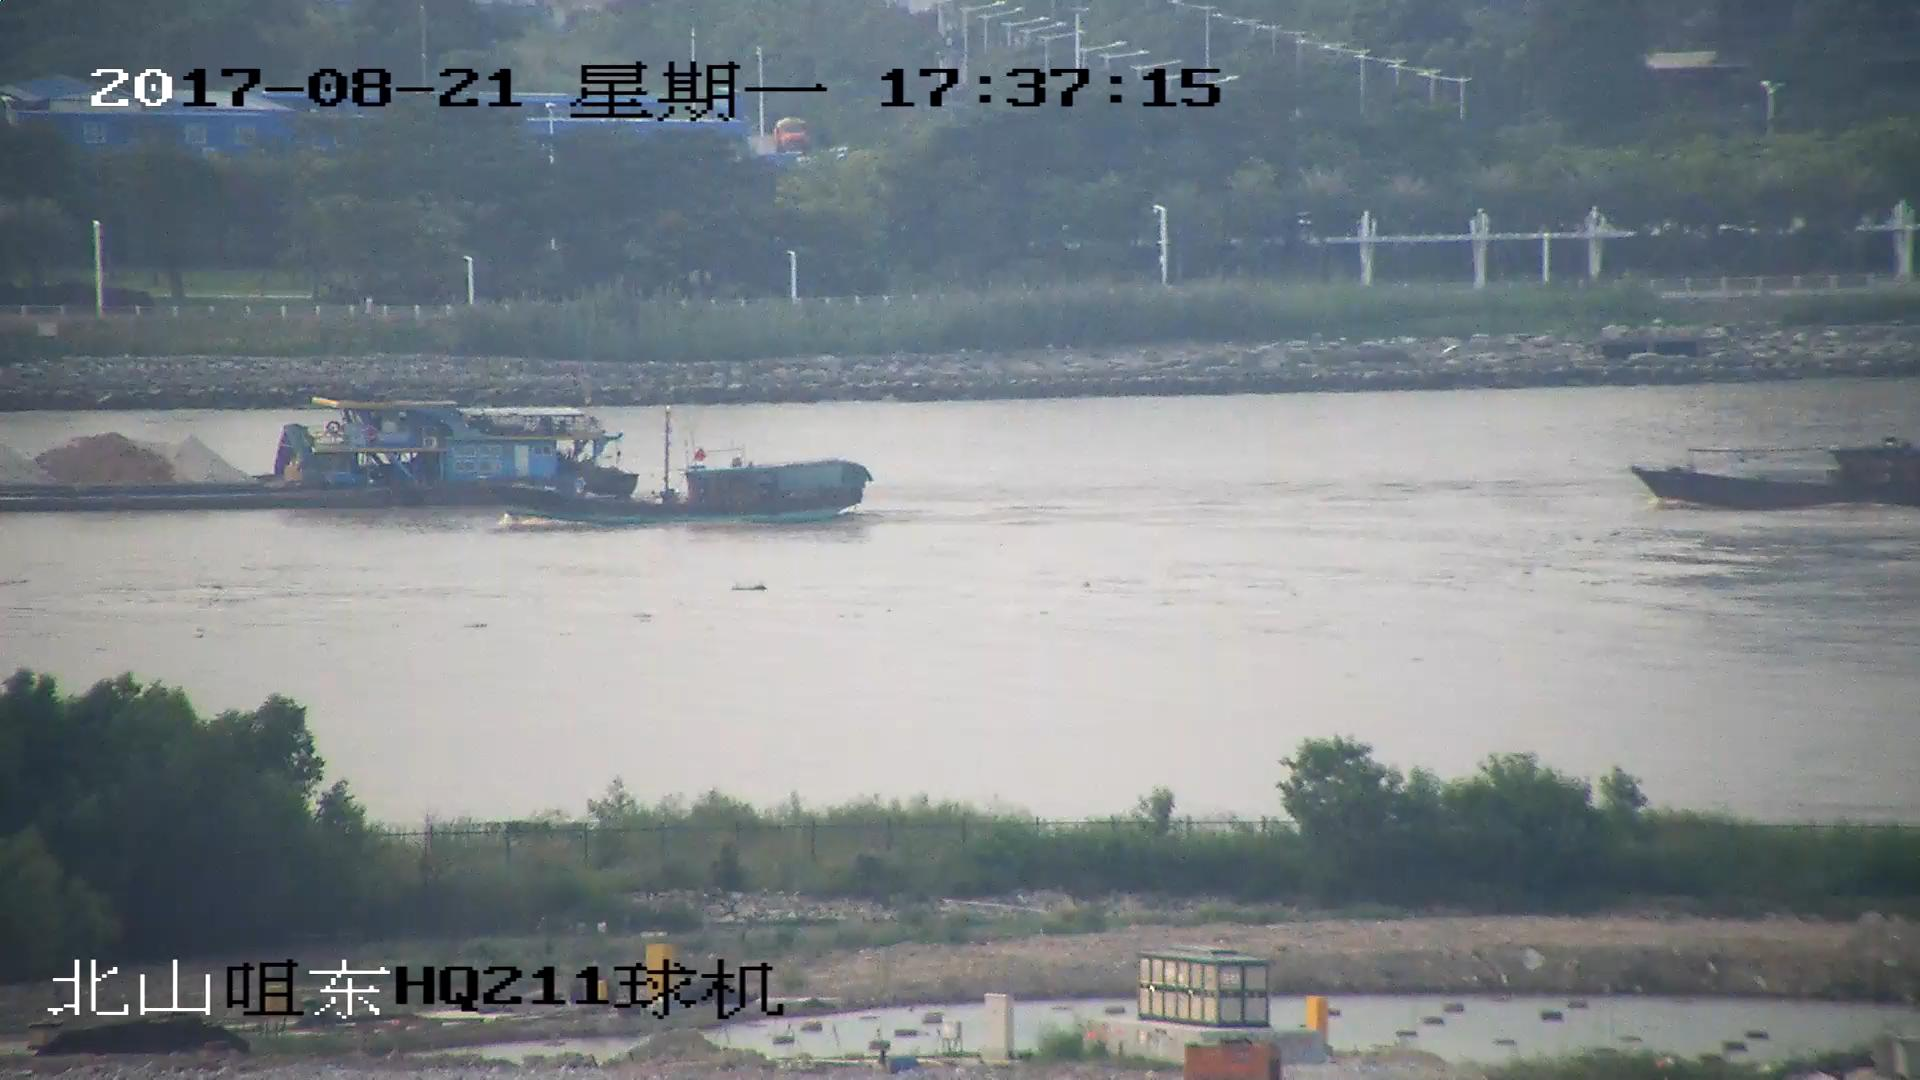fishing boat: (503, 416, 873, 528), (1630, 442, 1920, 505)
ore carrier: (1, 390, 601, 503)
